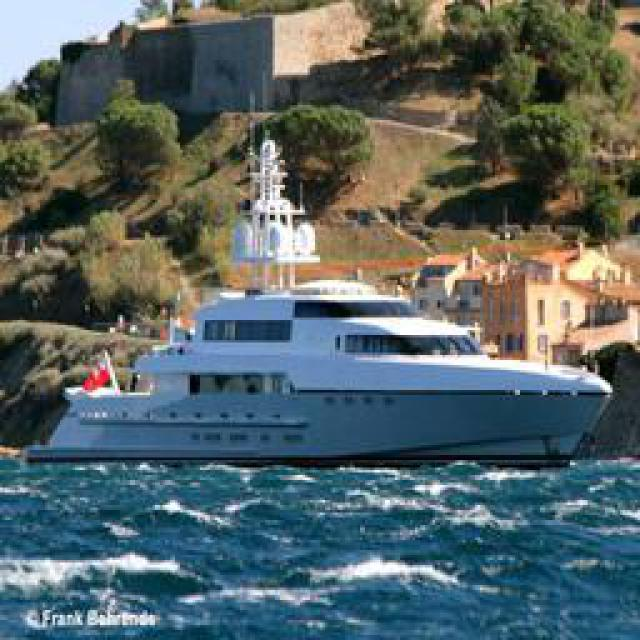Ship: (41, 285, 619, 470)
